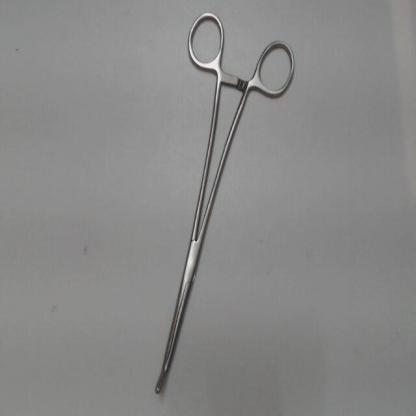Lahey Forceps: (145, 4, 303, 403)
